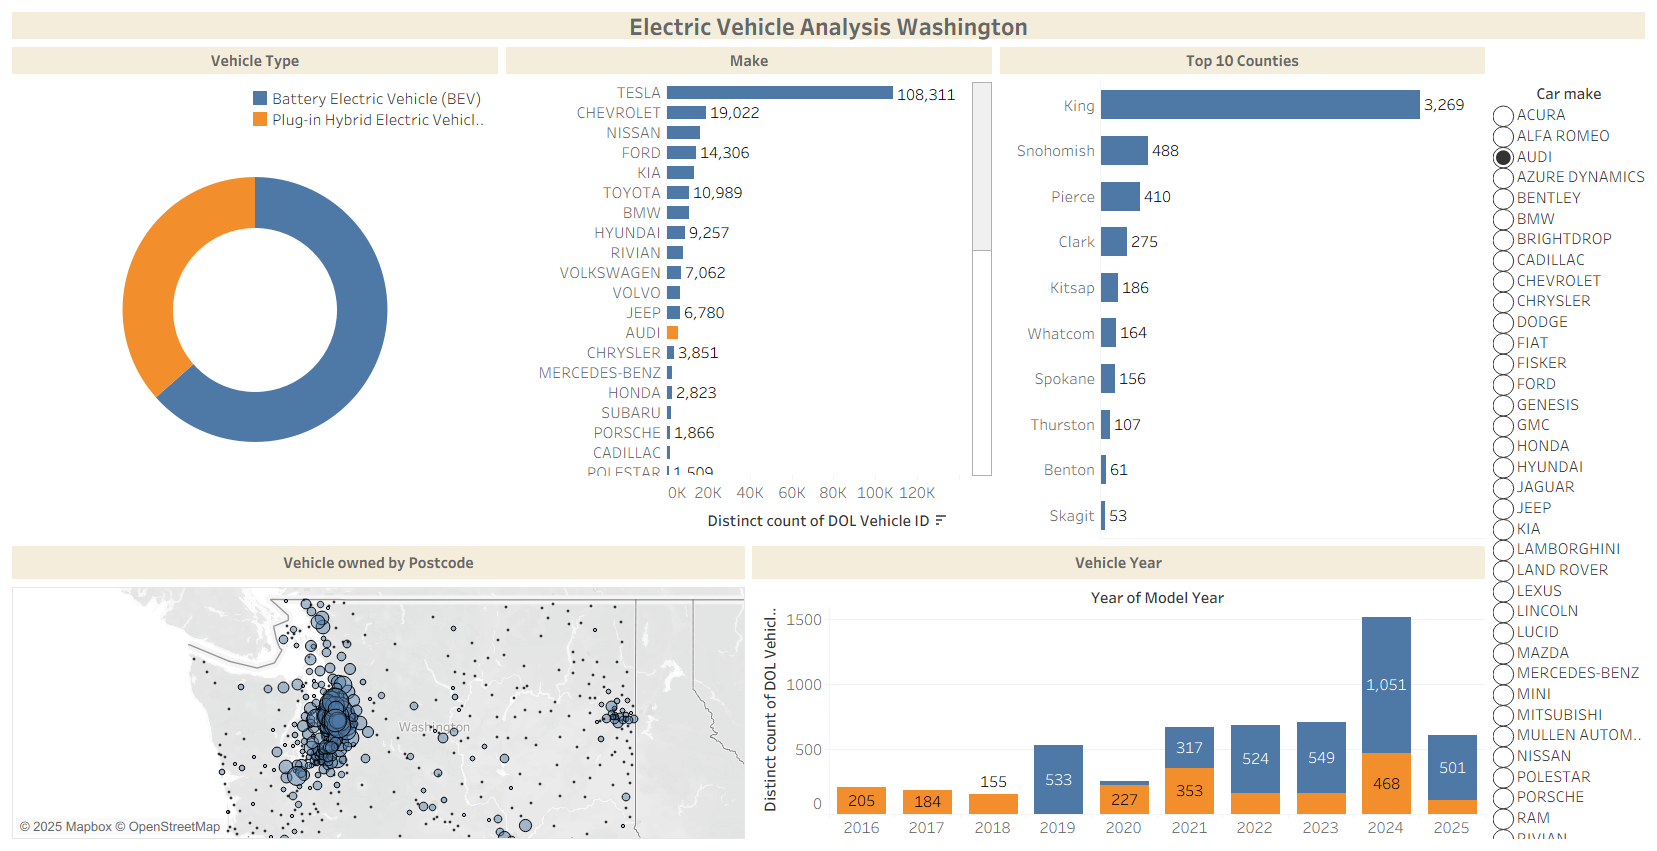

Layout of this report page (visuals, bound fields, positions):
{"tool":"tableau","page":{"name":"Dashboard 1","canvas":[1000,1000],"units":"permille","ordinal":0},"visuals":[{"type":"text","box":[4.8,9.4,990.3,41.1]},{"type":"text","box":[4.8,50.5,298.1,41.1]},{"type":"text","box":[302.9,50.5,298.1,41.1]},{"type":"text","box":[601.1,50.5,297.5,41.1]},{"type":"worksheet","title":"Vehicle Type Donut","mark":"Pie","rows":["Calculation_1395834415473778691","Calculation_1395834415473778691"],"box":[4.8,91.7,298.1,545.2]},{"type":"worksheet","title":"Make and Model","mark":"Bar","rows":["Make"],"cols":["DOL Vehicle ID"],"box":[303,91.7,298.1,545.2]},{"type":"worksheet","title":"Top 10 Counties","mark":"Bar","rows":["County"],"cols":["DOL Vehicle ID"],"box":[601.1,91.7,297.5,545.2]},{"type":"parameter","param":"[Parameters].[Parameter 1]","box":[898.6,91.7,96.6,898.9]},{"type":"legend","title":"Vehicle Type Donut","param":"[federated.0k114340ly20wx16vw5z61x7iojg].[none:Electric Vehicle Type:nk]","box":[150.9,103.4,141.8,85.8]},{"type":"text","box":[4.8,636.4,446.9,48.7]},{"type":"text","box":[451.7,636.4,446.9,48.7]},{"type":"worksheet","title":"Maps","mark":"Automatic","box":[4.8,685.1,446.9,305.5]},{"type":"worksheet","title":"Year and Type","mark":"Bar","rows":["DOL Vehicle ID"],"cols":["Model Year"],"box":[451.7,685.1,446.9,305.5]}]}

Visuals, with their boxes on the dashboard's canvas, which has no fixed pixel size, in thousandths of its width and height (x1, y1, x2, y2). These are canvas units, not pixel positions in the 1657x851 screenshot, which may show the page scaled, cropped or inside an application window:
text: (left=5, top=9, right=995, bottom=50)
text: (left=5, top=50, right=303, bottom=92)
text: (left=303, top=50, right=601, bottom=92)
text: (left=601, top=50, right=899, bottom=92)
"Vehicle Type Donut" worksheet (Pie marks): (left=5, top=92, right=303, bottom=637)
"Make and Model" worksheet (Bar marks): (left=303, top=92, right=601, bottom=637)
"Top 10 Counties" worksheet (Bar marks): (left=601, top=92, right=899, bottom=637)
parameter: (left=899, top=92, right=995, bottom=991)
"Vehicle Type Donut" legend: (left=151, top=103, right=293, bottom=189)
text: (left=5, top=636, right=452, bottom=685)
text: (left=452, top=636, right=899, bottom=685)
"Maps" worksheet: (left=5, top=685, right=452, bottom=991)
"Year and Type" worksheet (Bar marks): (left=452, top=685, right=899, bottom=991)
